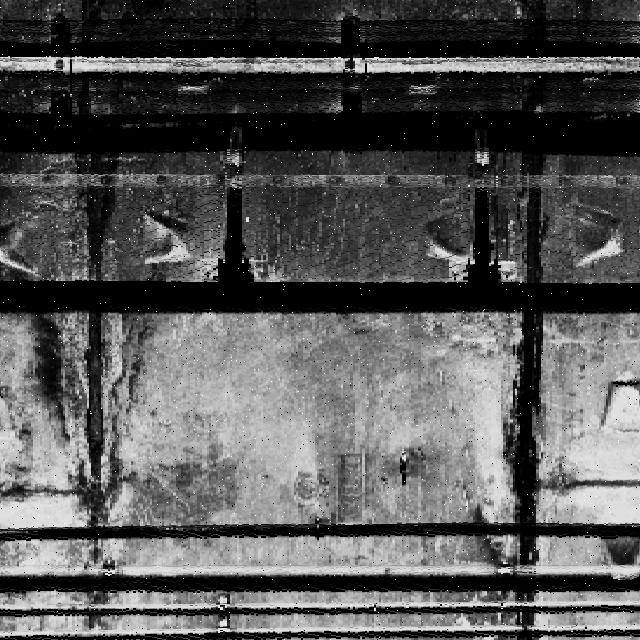leakage: (10, 148, 196, 558), (491, 150, 561, 638), (515, 1, 552, 115)
